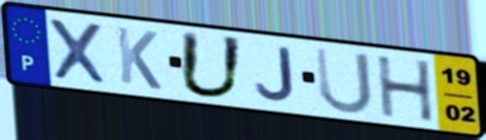H: (373, 54, 438, 124)
J: (253, 45, 298, 104)
K: (113, 24, 164, 93)
U: (177, 28, 247, 101), (312, 44, 376, 116)
X: (45, 15, 112, 88)
